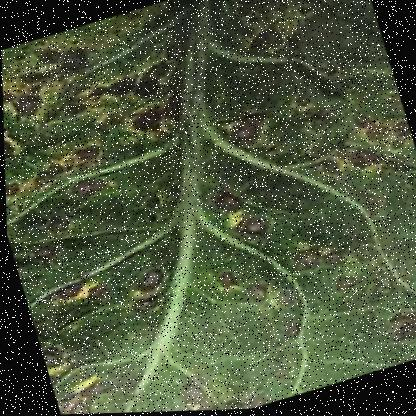AlternariaBrassicicola: (110, 93, 192, 166), (113, 249, 188, 326), (217, 105, 281, 162), (2, 73, 57, 137), (343, 96, 398, 157), (226, 201, 287, 253), (314, 263, 372, 315), (38, 41, 101, 88), (205, 377, 281, 410), (282, 240, 331, 288), (66, 166, 120, 205), (208, 260, 248, 298)
